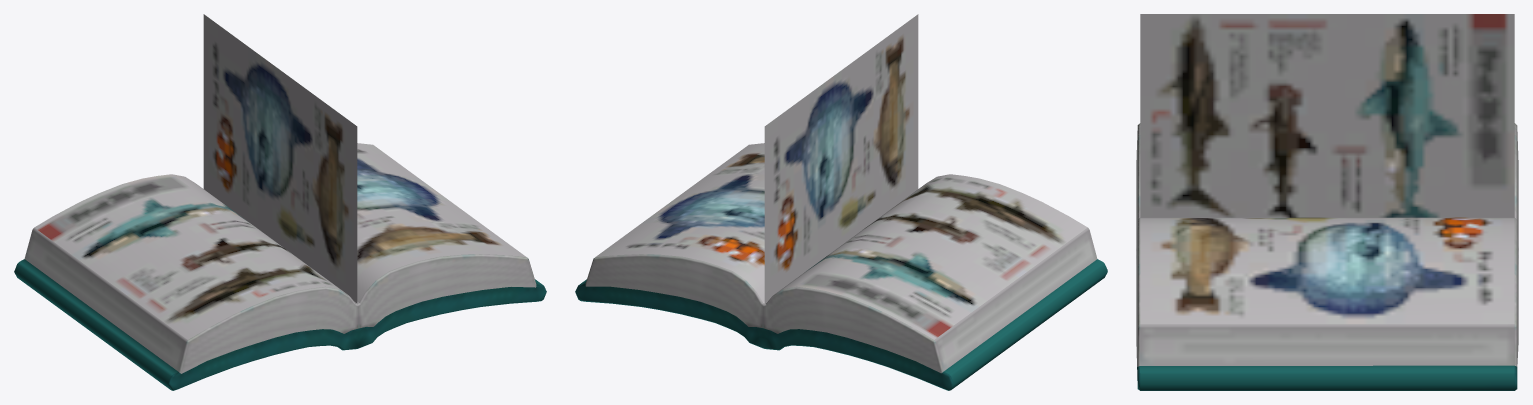
The model's file is ToolBookFish.glb.
3 renders of one model, left to right at view 1: azimuth 30°, elevation 25°; view 2: azimuth 150°, elevation 25°; view 3: azimuth 270°, elevation 25°, orthographic. The views are drawn at different scales.
Parts seen in each view (by area): view 1: Body__mTool, Page3__mTool; view 2: Body__mTool, Page3__mTool; view 3: Page3__mTool, Body__mTool.
Boxes of the visible parts, bbox=[...] form: Body__mTool: bbox=[14, 143, 546, 390]; Page3__mTool: bbox=[203, 14, 357, 303]; Body__mTool: bbox=[575, 143, 1107, 390]; Page3__mTool: bbox=[764, 14, 918, 303]; Page3__mTool: bbox=[1140, 14, 1514, 217]; Body__mTool: bbox=[1136, 123, 1518, 390].
Bounding box in the file's own units: 4.5 × 2.52 × 3.23.
1 material, 1 textured.
